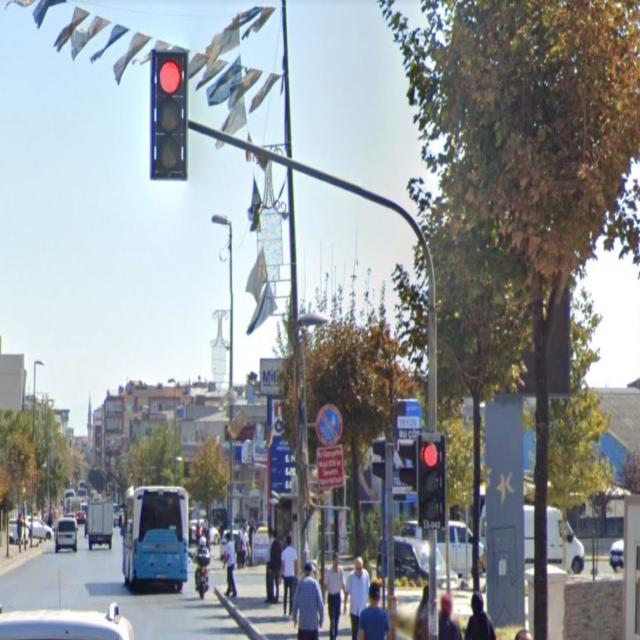kirmizi: (151, 51, 187, 179), (418, 436, 445, 530)
